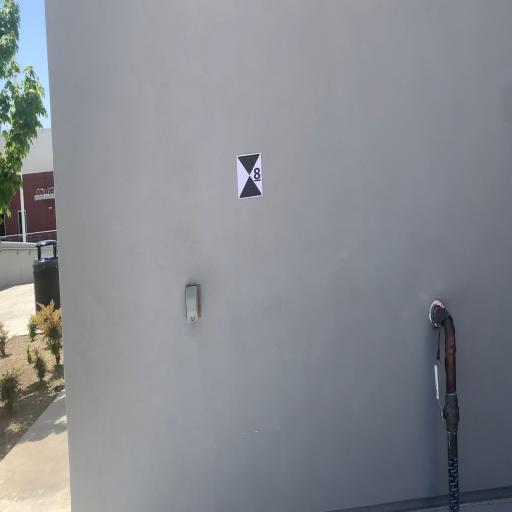target8: (237, 152, 264, 198)
